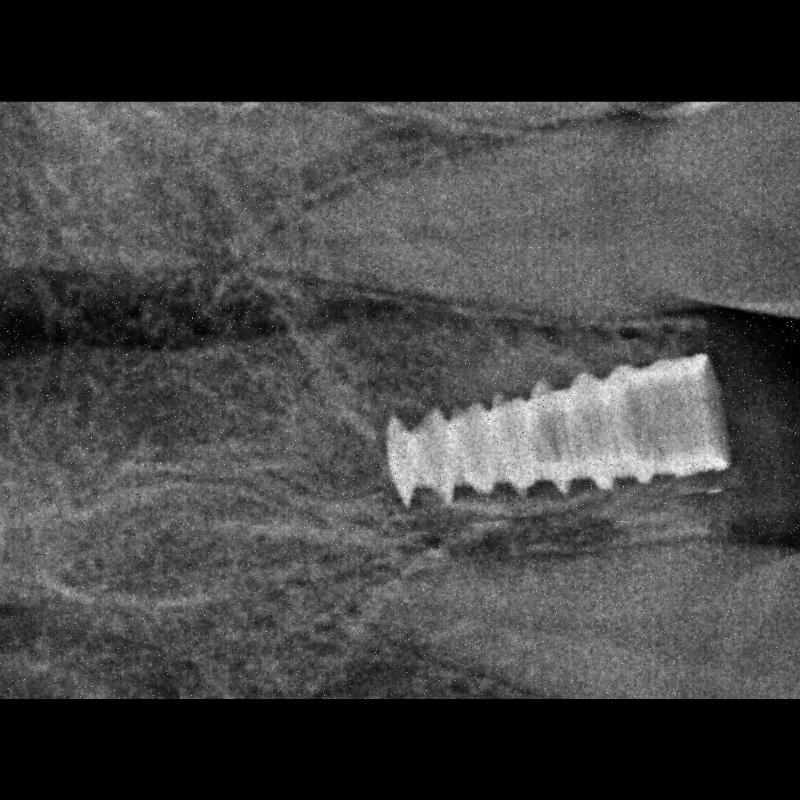ADIN: (373, 338, 742, 524)
